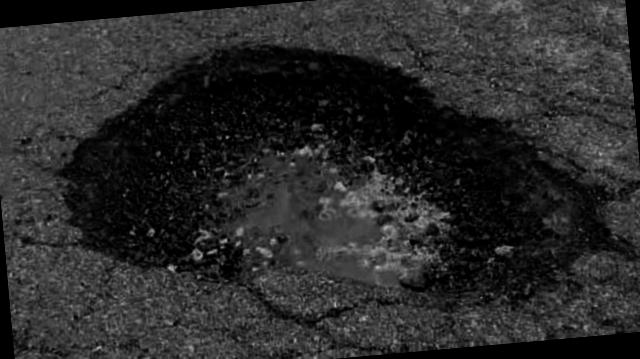Pothole: (43, 4, 614, 326)
